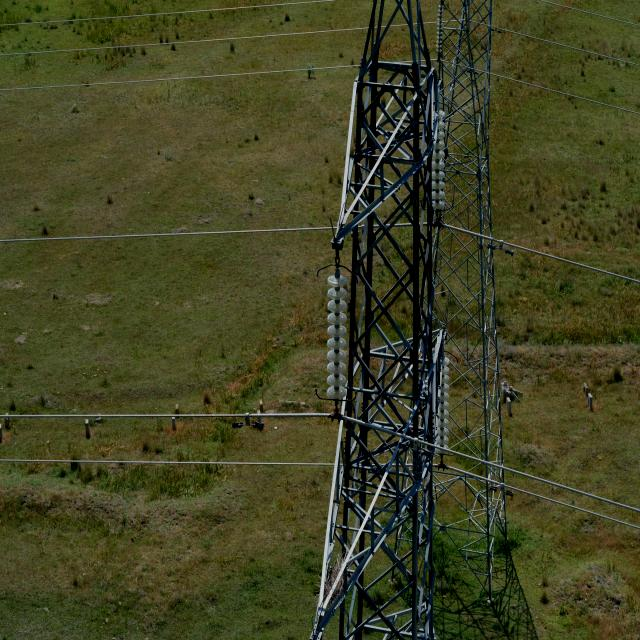voltage_line: (325, 7, 501, 639)
